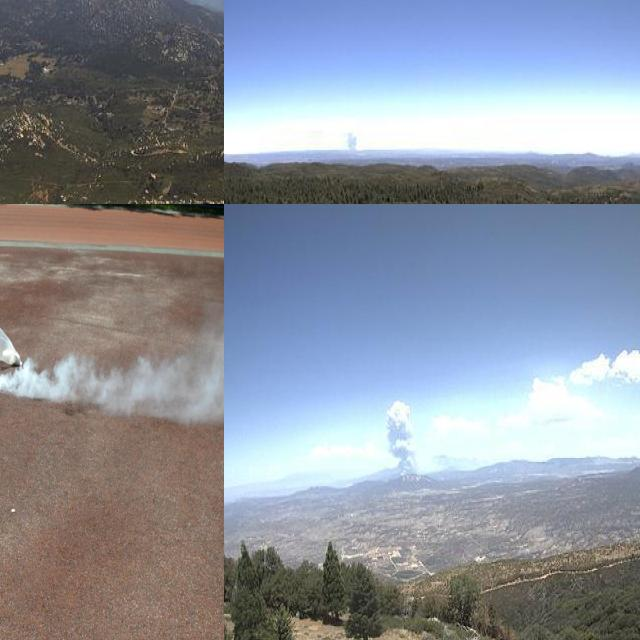smoke: (10, 208, 224, 425), (382, 396, 424, 484), (343, 127, 360, 158)
